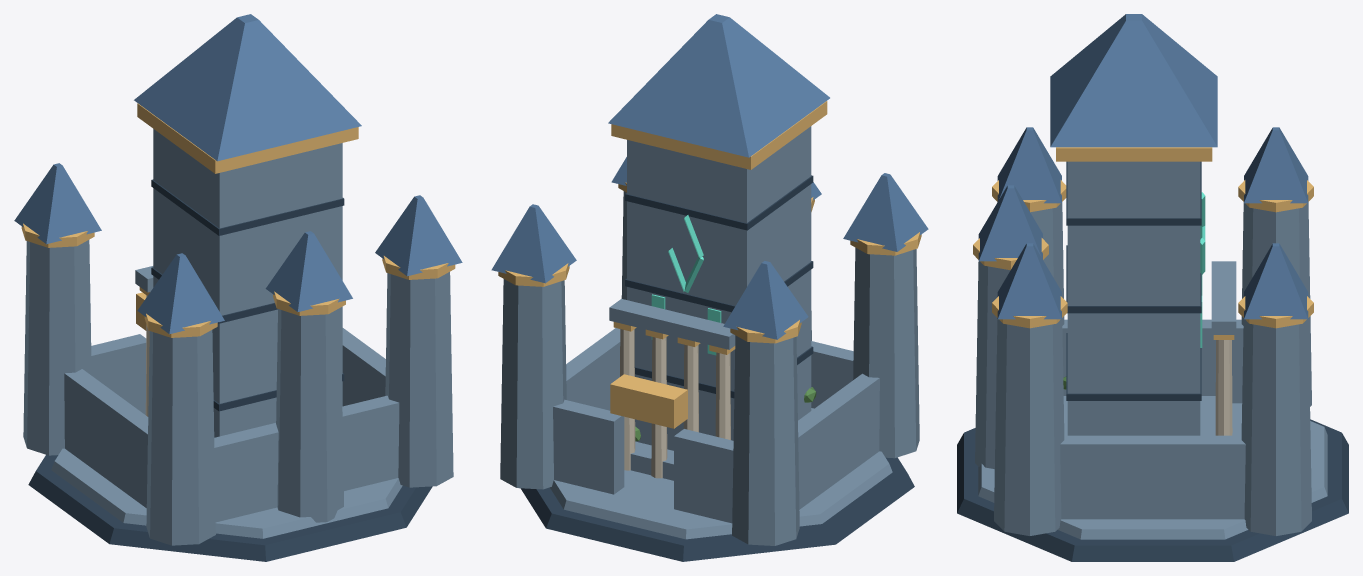
File: Keep_2.fbx
3 views of the same model, side by side, from view 1: azimuth 30°, elevation 25°; view 2: azimuth 150°, elevation 25°; view 3: azimuth 270°, elevation 25° (orthographic). The views are drawn at different scales.
Visible parts, largest first — view 1: Keep_2; view 2: Keep_2; view 3: Keep_2.
Boxes of the visible parts, left/top/right/bottom form: Keep_2: left=14, top=14, right=462, bottom=561; Keep_2: left=491, top=14, right=928, bottom=561; Keep_2: left=957, top=14, right=1348, bottom=561.
Bounding box in the file's own units: 3.9 × 5.07 × 3.9.
